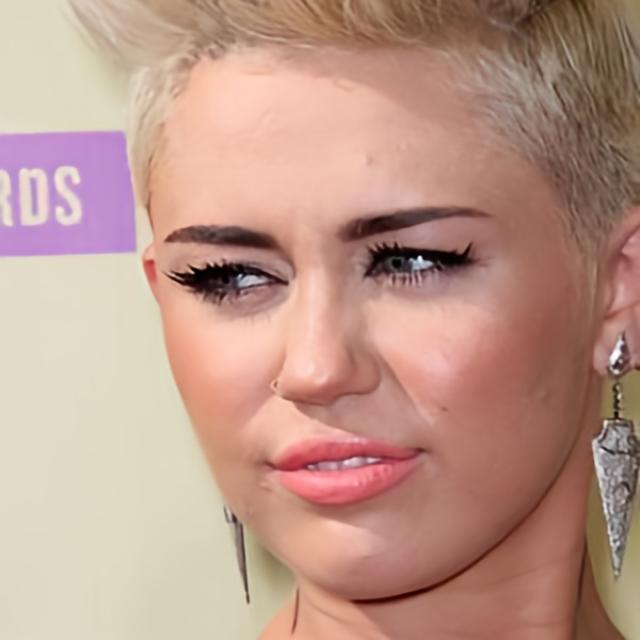disgust: (147, 24, 590, 601)
